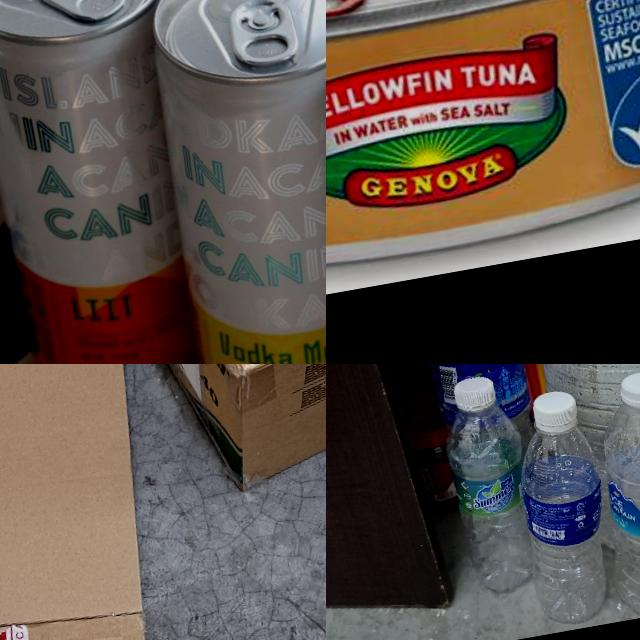aba de lata: (226, 0, 300, 72), (24, 0, 132, 29)
garrafa plástica: (520, 364, 640, 560), (436, 398, 547, 595), (514, 419, 616, 625), (408, 364, 549, 496), (598, 393, 640, 616)
lata: (326, 0, 640, 304), (0, 0, 240, 364), (134, 0, 326, 364)
papelão: (0, 364, 182, 640), (77, 364, 326, 504)
tampa plástica: (528, 387, 582, 438), (448, 367, 498, 417), (611, 364, 640, 410)
